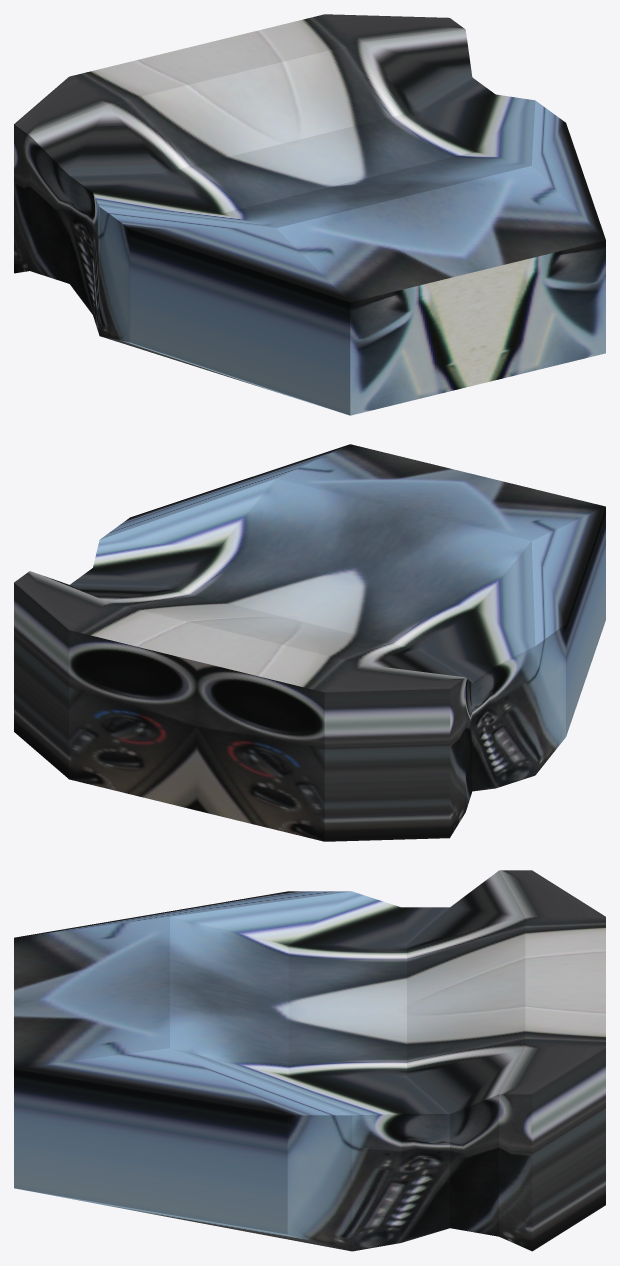
The picture shows the model from 3 angles, top to bottom: view 1: azimuth 30°, elevation 25°; view 2: azimuth 150°, elevation 25°; view 3: azimuth 270°, elevation 25°; orthographic projection. The views are drawn at different scales.
Parts seen in each view (by area): view 1: Body-2.002_Cube.024; view 2: Body-2.002_Cube.024; view 3: Body-2.002_Cube.024.
Boxes of the visible parts, left/top/right/bottom form: Body-2.002_Cube.024: left=14, top=14, right=605, bottom=415; Body-2.002_Cube.024: left=14, top=444, right=605, bottom=841; Body-2.002_Cube.024: left=14, top=870, right=605, bottom=1251.
Size of the model in its own units: 10.91 by 3.57 by 12.19.
